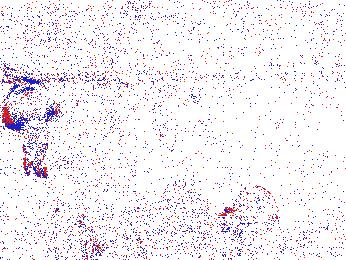flame jellyfish: (4, 81, 58, 178), (44, 204, 104, 258), (217, 184, 278, 237)
